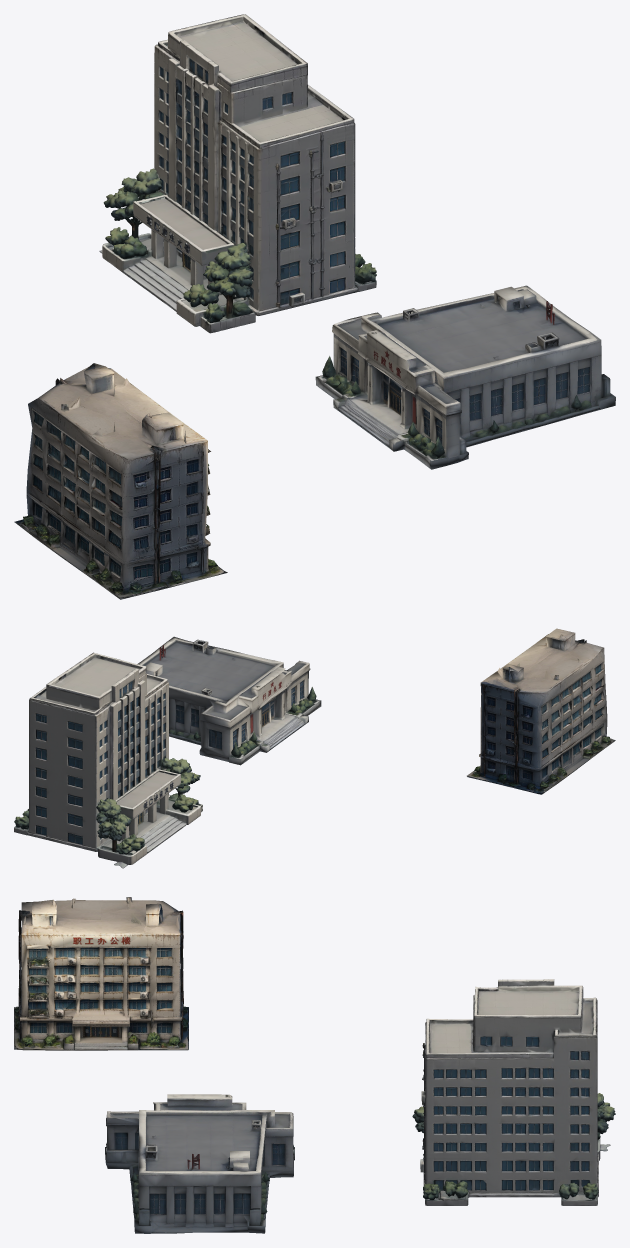
File: civic-buildings.glb
The picture shows the model from 3 angles, top to bottom: view 1: azimuth 30°, elevation 25°; view 2: azimuth 150°, elevation 25°; view 3: azimuth 270°, elevation 25°; orthographic projection. The views are drawn at different scales.
Parts seen in each view (by area): view 1: tripo_node_a7d8c390-3c8f-40e2-8b61-20784aac5911, tripo_node_d67090b6-b179-4537-b6f9-53544efe89a4, tripo_node_60e25b81-e60a-480e-8cf6-9d1e817821d8; view 2: tripo_node_a7d8c390-3c8f-40e2-8b61-20784aac5911, tripo_node_60e25b81-e60a-480e-8cf6-9d1e817821d8, tripo_node_d67090b6-b179-4537-b6f9-53544efe89a4; view 3: tripo_node_a7d8c390-3c8f-40e2-8b61-20784aac5911, tripo_node_60e25b81-e60a-480e-8cf6-9d1e817821d8, tripo_node_d67090b6-b179-4537-b6f9-53544efe89a4.
Part boxes in pixels (box(x1,y1,x2,y2)): tripo_node_a7d8c390-3c8f-40e2-8b61-20784aac5911: box(99, 14, 376, 333); tripo_node_d67090b6-b179-4537-b6f9-53544efe89a4: box(315, 285, 615, 469); tripo_node_60e25b81-e60a-480e-8cf6-9d1e817821d8: box(14, 363, 227, 599); tripo_node_a7d8c390-3c8f-40e2-8b61-20784aac5911: box(14, 652, 202, 868); tripo_node_60e25b81-e60a-480e-8cf6-9d1e817821d8: box(467, 628, 615, 794); tripo_node_d67090b6-b179-4537-b6f9-53544efe89a4: box(137, 636, 321, 765); tripo_node_a7d8c390-3c8f-40e2-8b61-20784aac5911: box(412, 979, 615, 1205); tripo_node_60e25b81-e60a-480e-8cf6-9d1e817821d8: box(14, 897, 188, 1050); tripo_node_d67090b6-b179-4537-b6f9-53544efe89a4: box(105, 1094, 294, 1233).
Bounding box in the file's own units: 63.71 × 24 × 71.08.
3 materials, 3 textured.
